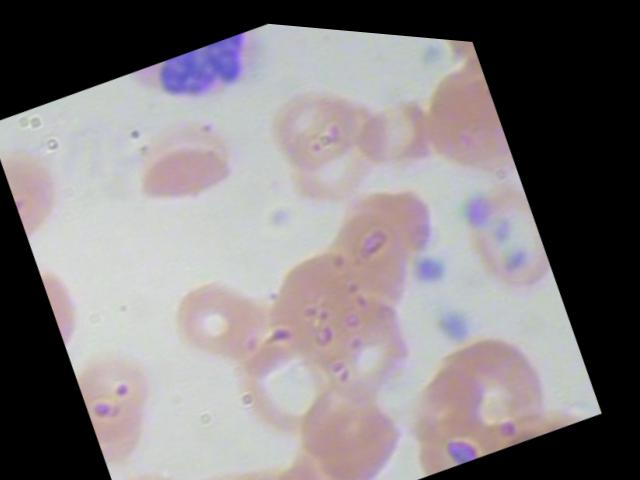Platelets: (404, 231, 468, 293), (429, 283, 492, 345), (452, 164, 515, 226)
Red Blood Cells: (412, 298, 585, 464), (102, 74, 269, 233), (250, 212, 404, 371), (291, 182, 445, 336), (432, 150, 573, 312), (218, 307, 362, 447), (155, 239, 301, 377), (254, 50, 394, 176), (268, 97, 408, 223), (69, 319, 195, 456), (291, 366, 436, 479), (80, 351, 207, 479), (455, 361, 606, 462), (342, 74, 457, 181), (221, 424, 353, 479), (266, 422, 392, 479), (164, 433, 300, 479), (122, 438, 254, 479)
White Blood Cells: (124, 11, 291, 140)
